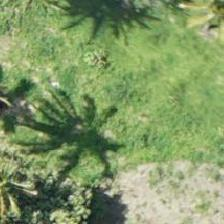coconut_tree: (176, 0, 223, 52), (170, 0, 223, 46)
